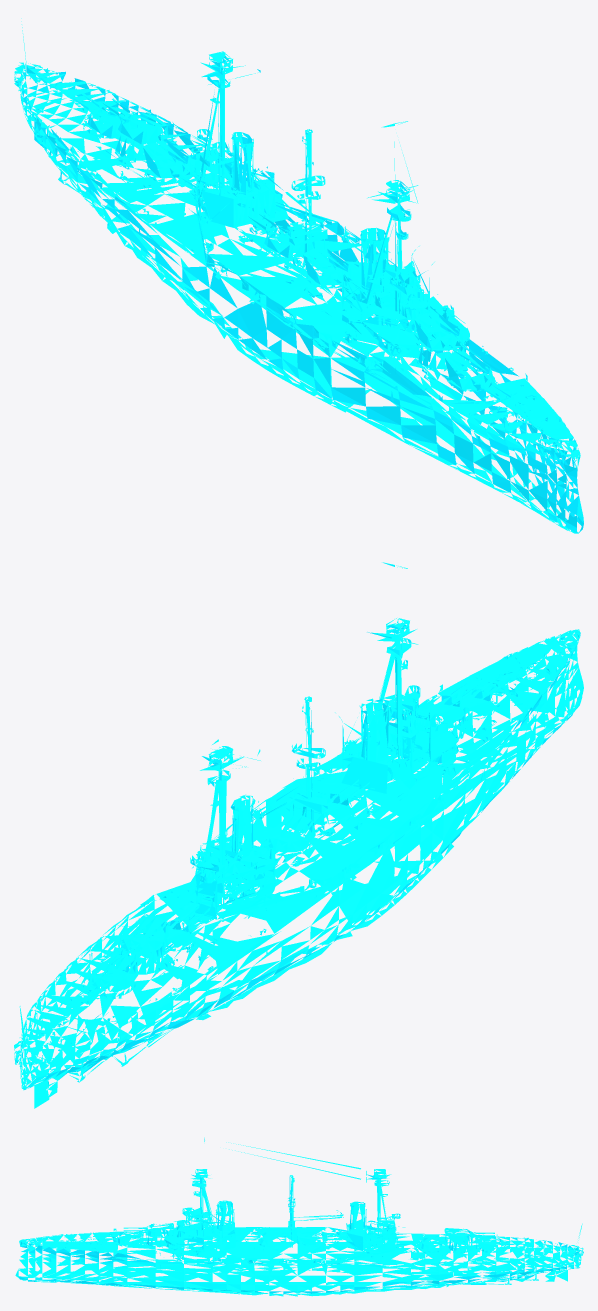
File: Agincourt.glb
3 renders of one model, top to bottom at view 1: azimuth 30°, elevation 25°; view 2: azimuth 150°, elevation 25°; view 3: azimuth 270°, elevation 25°, orthographic. The views are drawn at different scales.
Bounding box in the file's own units: 2.07 × 3.77 × 13.71.
